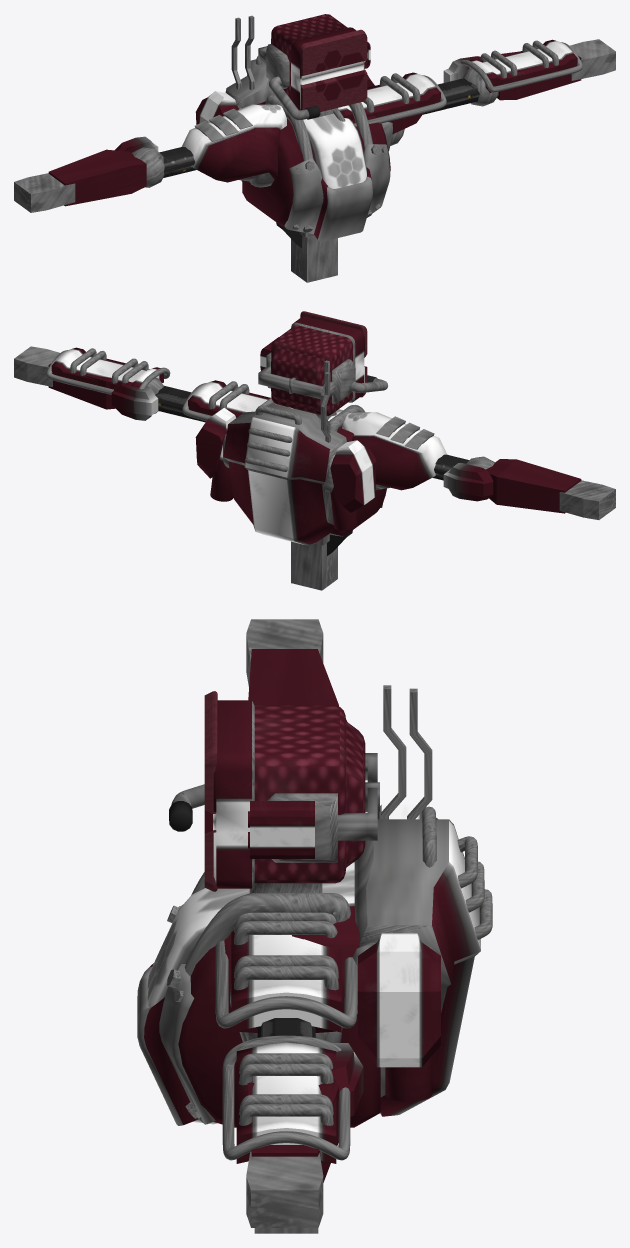
The model's file is Robot 8 head chasis arms.fbx.
3 renders of one model, top to bottom at view 1: azimuth 30°, elevation 25°; view 2: azimuth 150°, elevation 25°; view 3: azimuth 270°, elevation 25°, orthographic. The views are drawn at different scales.
Visible parts, largest first — view 1: Cube.019, Cube.005, Icosphere.004, Icosphere.007, Icosphere.006, Icosphere.005, Cube.002, Cube.017, Cube.031, Cylinder.004; view 2: Cube.019, Cube.005, Icosphere.007, Icosphere.004, Icosphere.006, Cylinder.004, Icosphere.005, Cylinder.003, Cube.002, Cube.017, Cube.031; view 3: Cube.019, Cube.005, Icosphere.007, Icosphere.005, Cylinder.003, Cube.031, Icosphere.006, Cube.017.
Boxes of the visible parts, <box> form: Cube.019: <box>225,15,392,241</box>; Cube.005: <box>258,14,370,120</box>; Icosphere.004: <box>159,104,286,182</box>; Icosphere.007: <box>443,39,582,106</box>; Icosphere.006: <box>48,136,164,206</box>; Icosphere.005: <box>333,72,479,145</box>; Cube.002: <box>276,222,337,282</box>; Cube.017: <box>14,173,75,212</box>; Cube.031: <box>570,39,615,80</box>; Cylinder.004: <box>195,91,238,124</box>; Cube.019: <box>223,360,386,545</box>; Cube.005: <box>258,311,387,415</box>; Icosphere.007: <box>46,347,170,420</box>; Icosphere.004: <box>342,412,469,490</box>; Icosphere.006: <box>443,456,581,513</box>; Cylinder.004: <box>330,440,376,530</box>; Icosphere.005: <box>155,380,292,422</box>; Cylinder.003: <box>195,408,236,501</box>; Cube.002: <box>291,530,352,590</box>; Cube.017: <box>559,480,615,519</box>; Cube.031: <box>14,346,59,386</box>; Cube.019: <box>137,685,492,1127</box>; Cube.005: <box>169,691,379,891</box>; Icosphere.007: <box>222,1035,363,1182</box>; Icosphere.005: <box>215,892,357,1040</box>; Cylinder.003: <box>358,933,440,1101</box>; Cube.031: <box>246,1152,323,1227</box>; Icosphere.006: <box>248,649,347,721</box>; Cube.017: <box>246,619,323,686</box>.
Bounding box in the file's own units: 1383 × 564 × 364.
